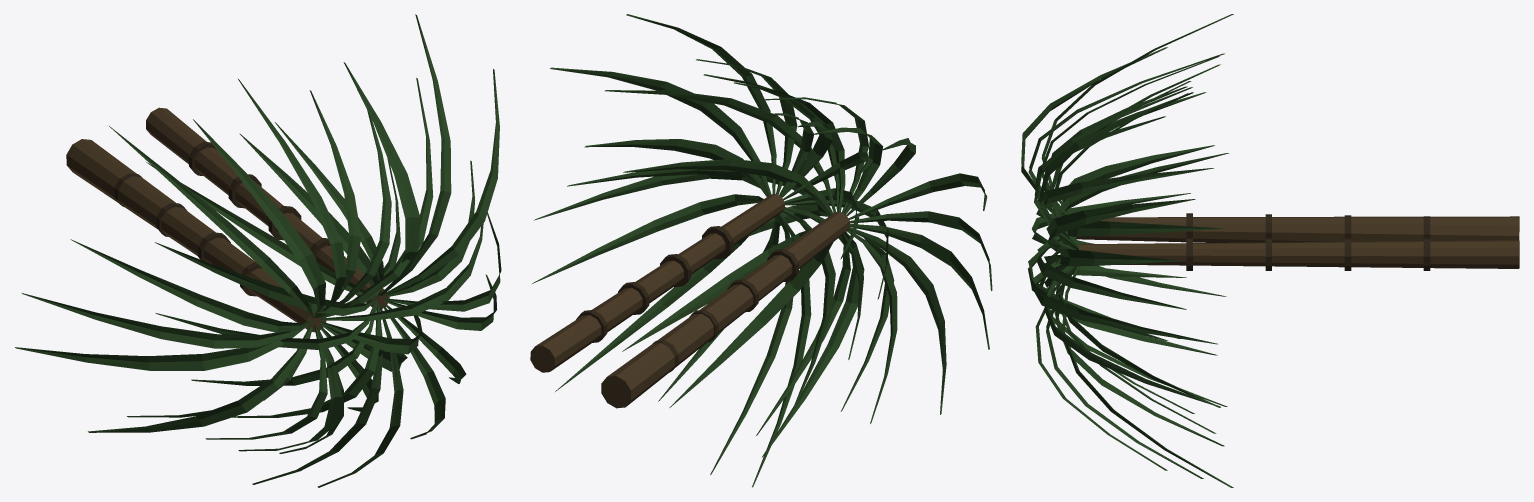
File: VD_Dracaena_A.obj
3 renders of one model, left to right at view 1: azimuth 30°, elevation 25°; view 2: azimuth 150°, elevation 25°; view 3: azimuth 270°, elevation 25°, orthographic. The views are drawn at different scales.
Parts seen in each view (by area): view 1: VD_Dracaena_A; view 2: VD_Dracaena_A; view 3: VD_Dracaena_A.
Part boxes in pixels (bbox=[...]): VD_Dracaena_A: bbox=[15, 14, 501, 487]; VD_Dracaena_A: bbox=[530, 14, 992, 487]; VD_Dracaena_A: bbox=[1021, 14, 1519, 487].
Size of the model in its own units: 157 by 144 by 151.
